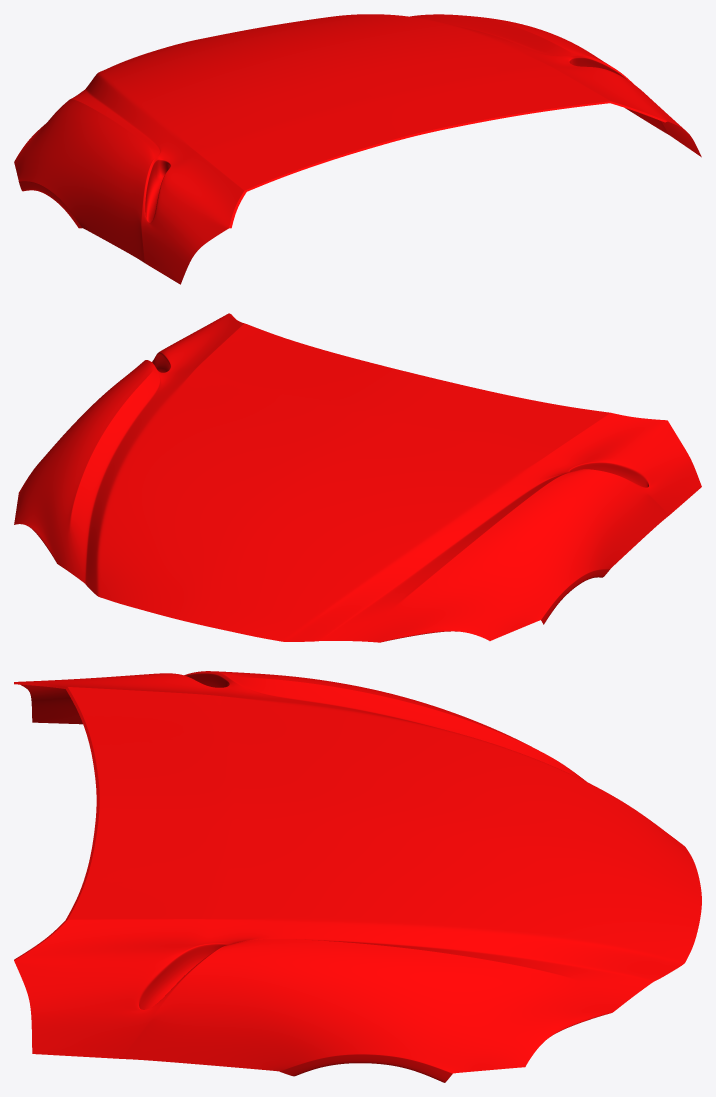
File: MK5hood.glb
3 views of the same model, one above another, from view 1: azimuth 30°, elevation 25°; view 2: azimuth 150°, elevation 25°; view 3: azimuth 270°, elevation 25° (orthographic). The views are drawn at different scales.
Visible parts, largest first — view 1: Object_39; view 2: Object_39; view 3: Object_39.
Part boxes in pixels (x1,y1,x2,y2): Object_39: (14, 14, 701, 284); Object_39: (14, 313, 701, 642); Object_39: (14, 671, 701, 1082).
Size of the model in its own units: 1.25 by 0.2046 by 1.08.
